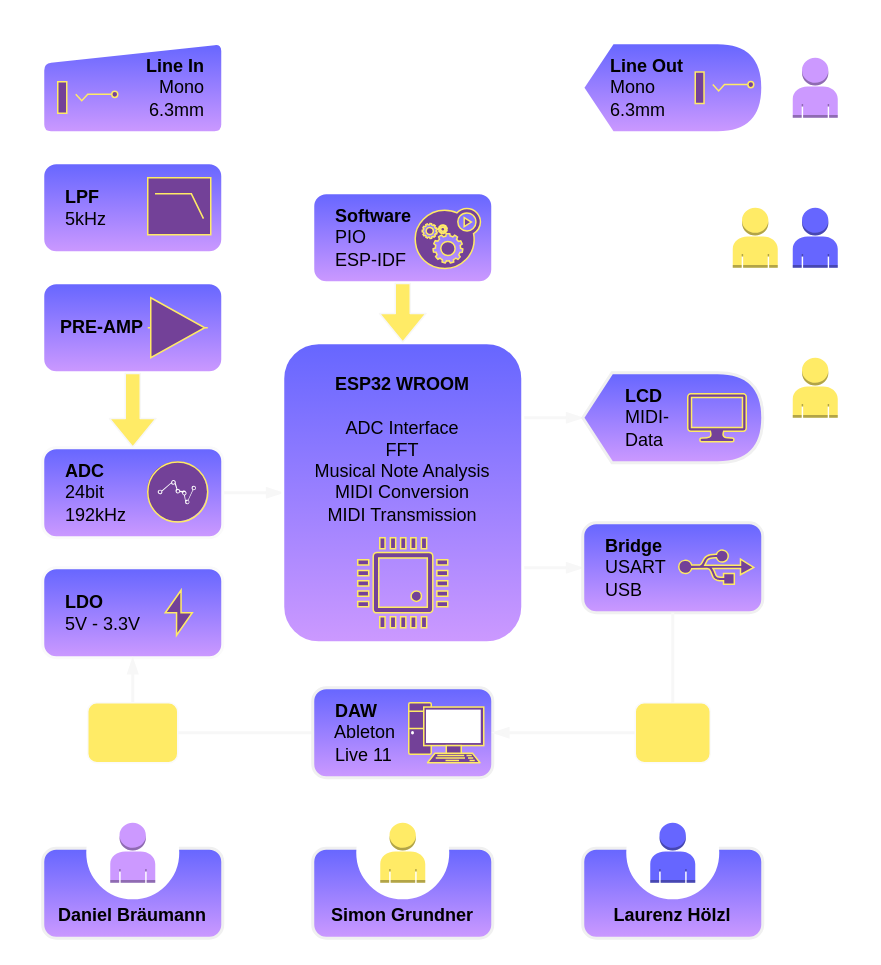
Some shapes in this 881 by 965 pixel diagram are drawn without their labels. The shapes that lost their labels are listed below. From the top down, each one's centre as x and y in pixels, then its label:
At (x=132, y=732): "USB Power".
At (x=672, y=732): "USB data".
